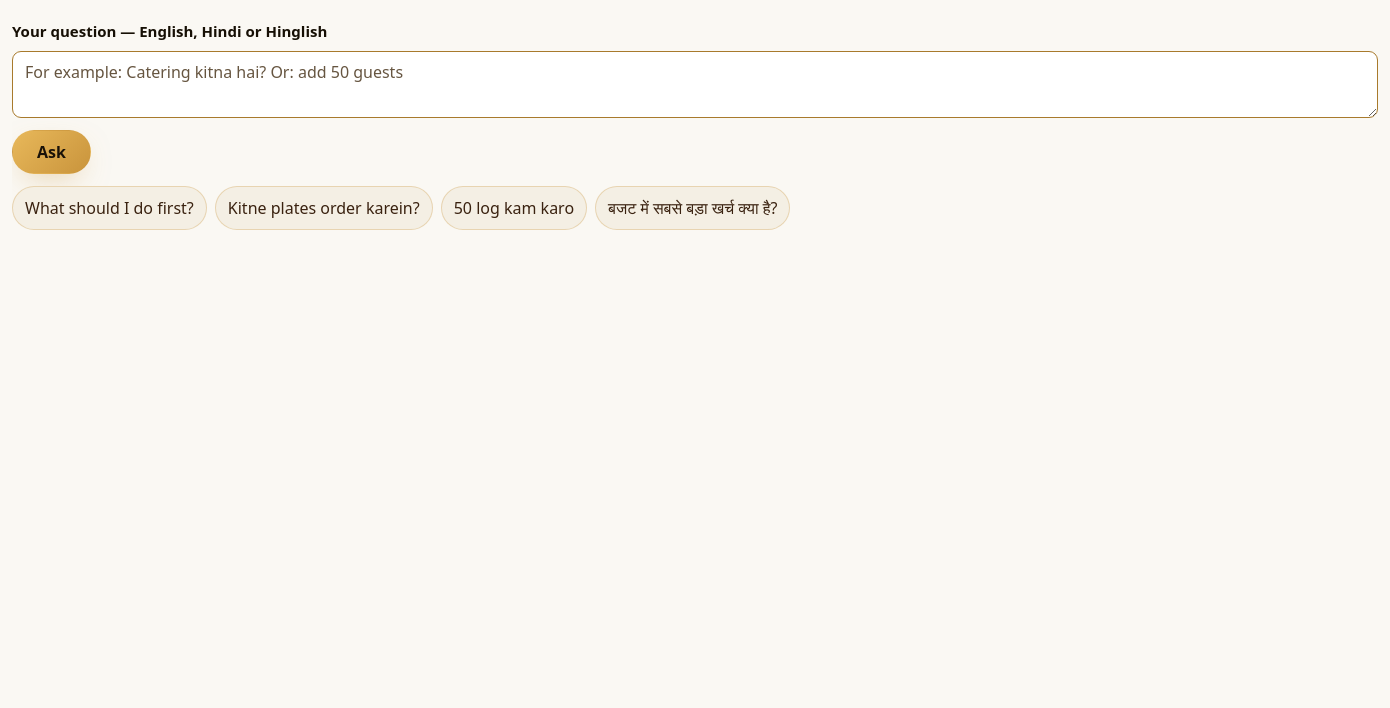
Test: AskDrawer › shows a proposed change as a diff and applies it only on Apply
The image size is (1390, 708).
Type "add 50 guests" into the text box labelled "Your question — English, Hindi or Hinglish" at (695, 85), box [12, 51, 1378, 118]
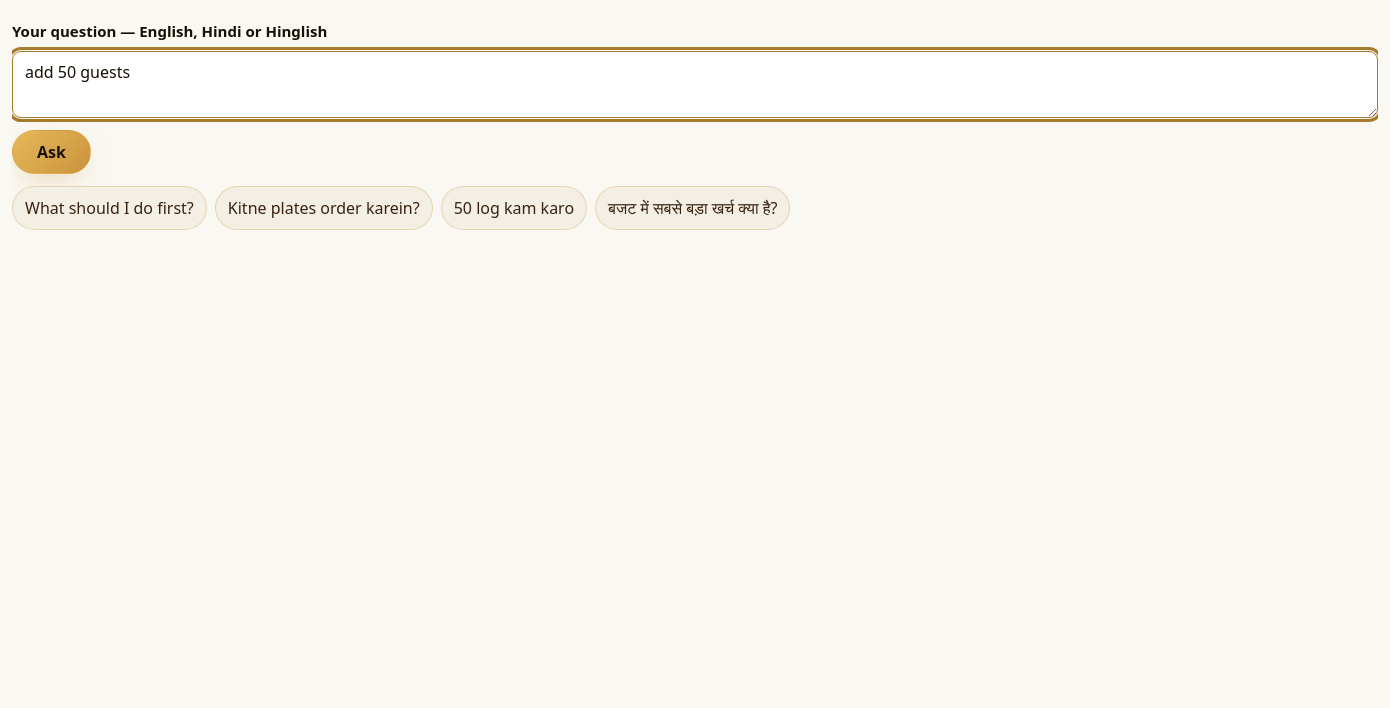
Click the button "Ask" at (51, 152), box [12, 130, 91, 174]
(page scrolled)
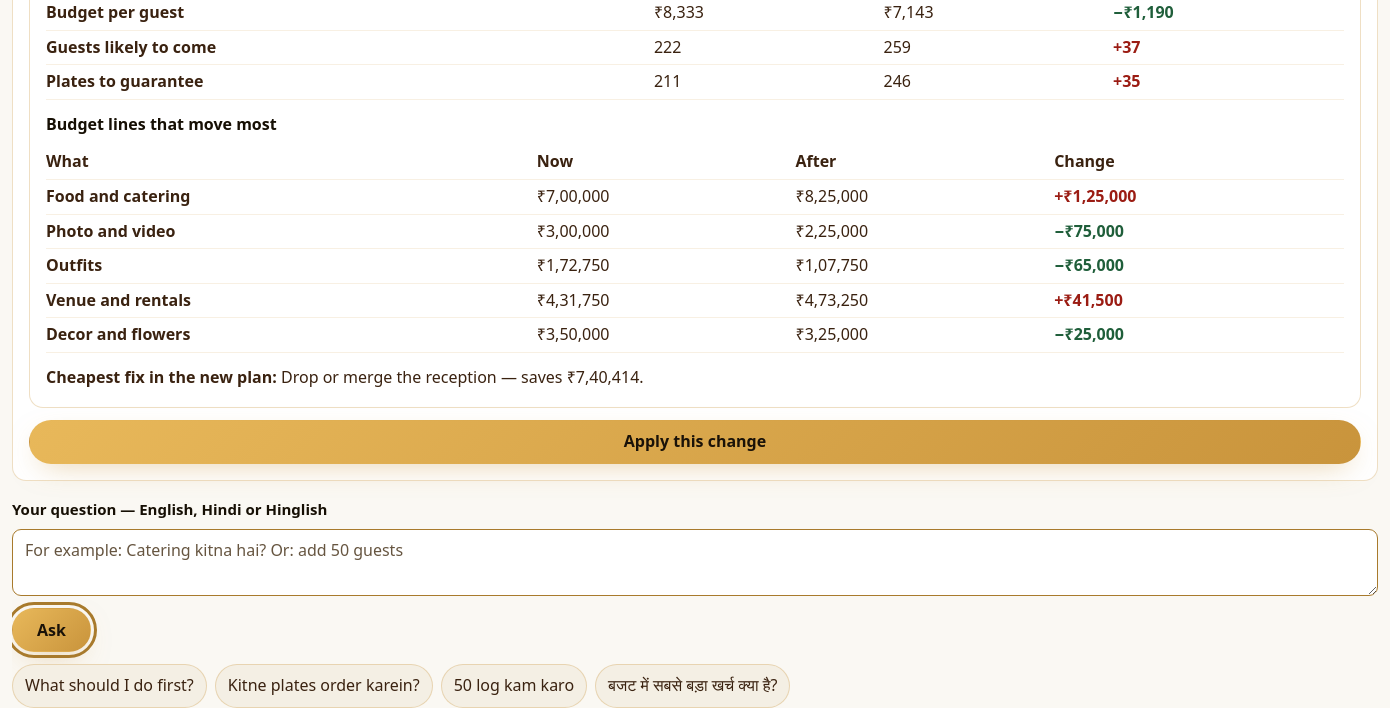
Click the button "Apply this change" at (695, 442), box [29, 420, 1361, 464]
(page scrolled)
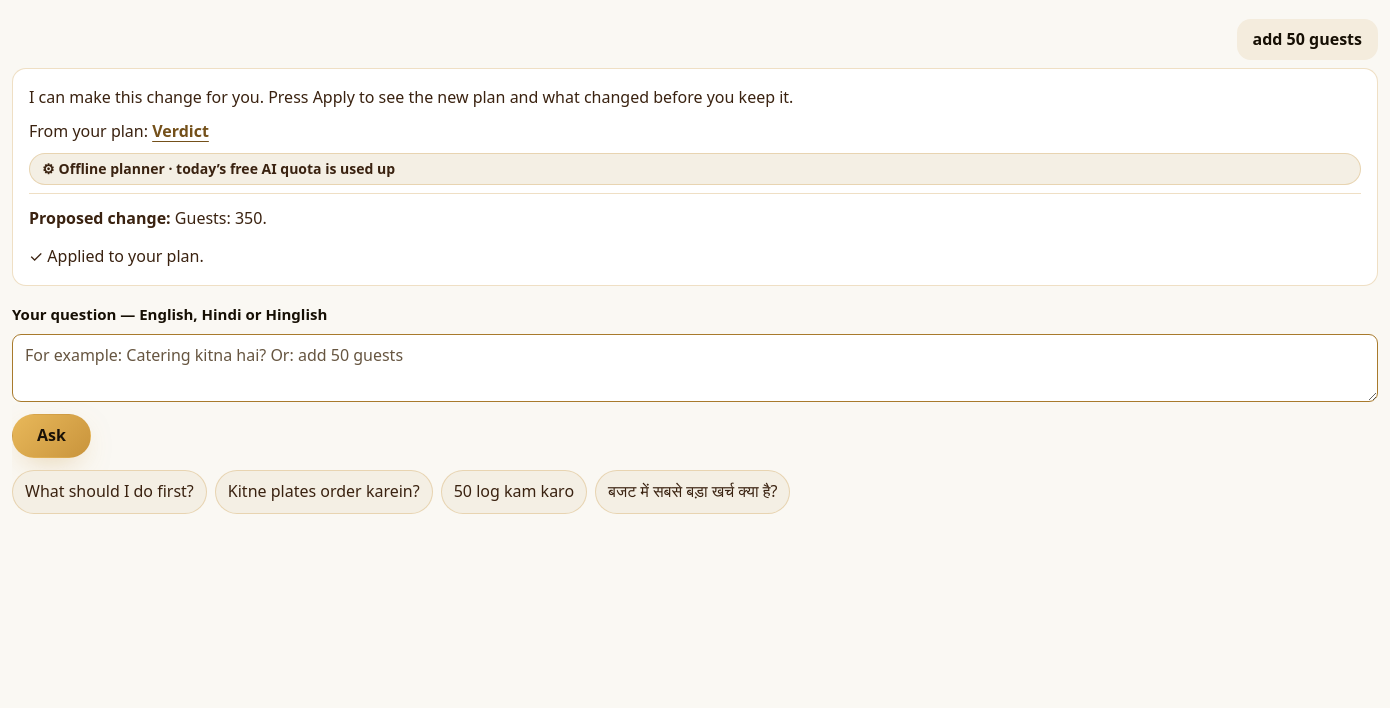
Check: the message shows "Applied to your plan.", box [43, 245, 204, 267]
Check: the button "Apply this change" is gone
